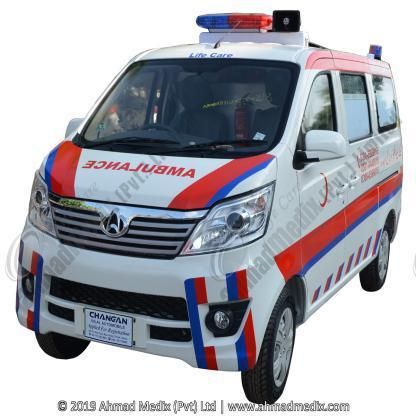ambulance_off: (17, 11, 403, 404)
